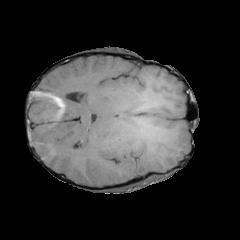glioma: (111, 82, 160, 173)
